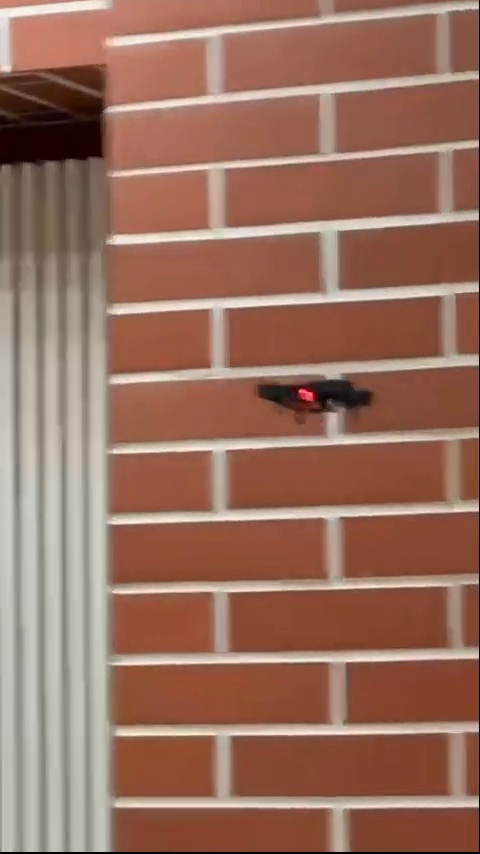drone: (255, 380, 372, 418)
